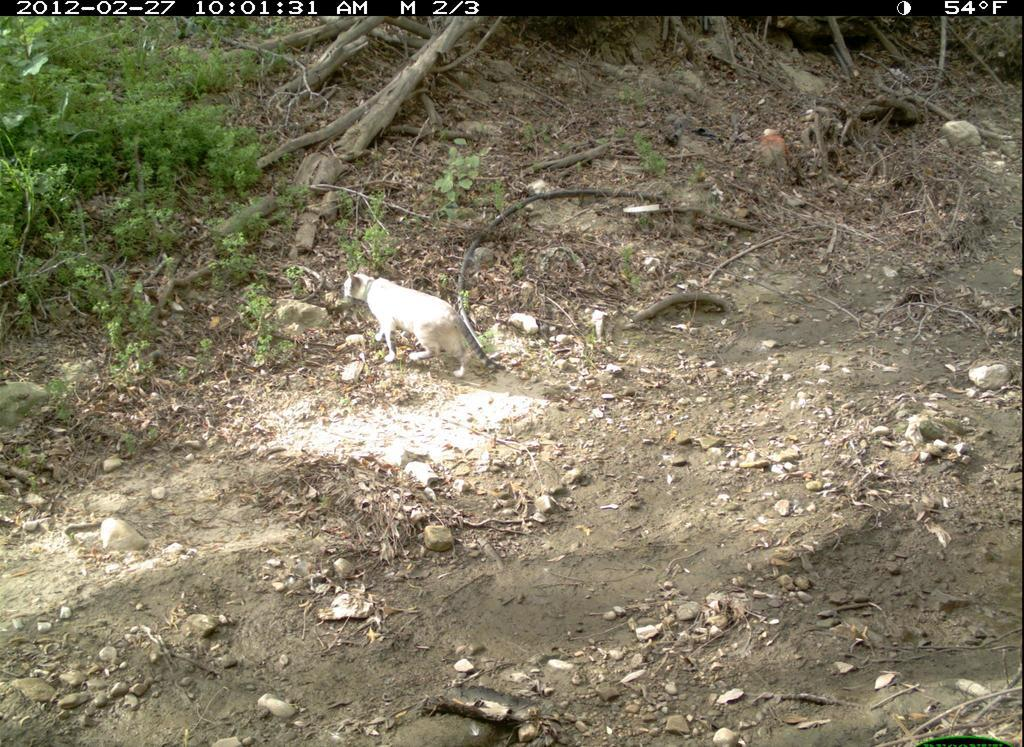cat: (333, 251, 501, 401)
